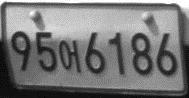1: (108, 31, 125, 76)
5: (34, 30, 58, 71)
6: (83, 30, 106, 74), (155, 33, 178, 76)
8: (130, 32, 153, 75)
9: (10, 30, 31, 71)
어: (58, 38, 82, 73)
